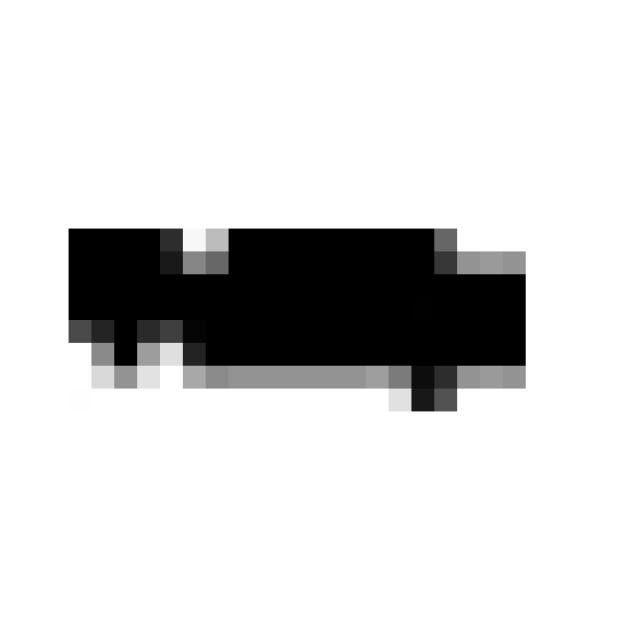0 -zero-: (46, 187, 552, 438)
